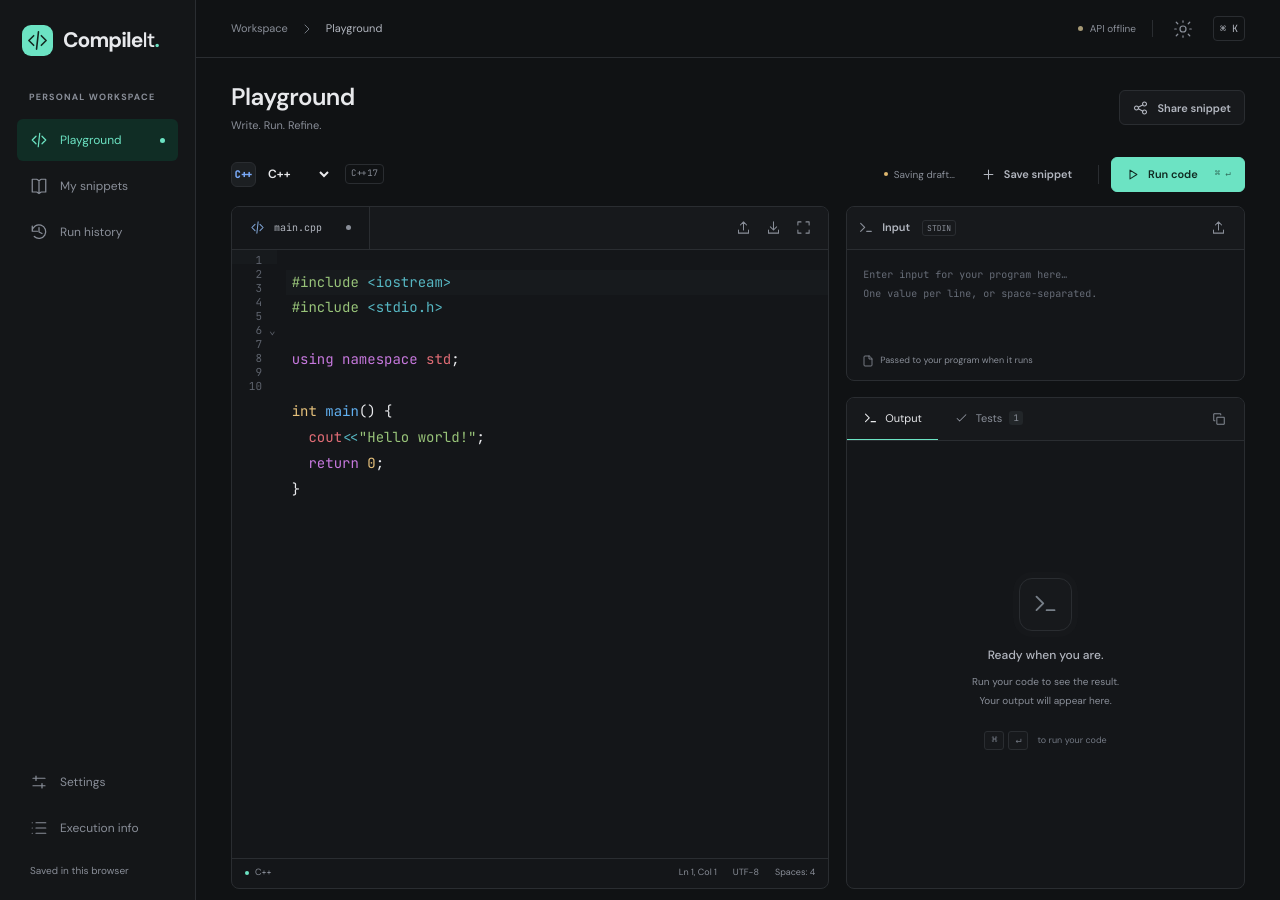
a lost submission response is retried with the same idempotency key
Click the button "Run code ⌘ ↵" at [1178, 174], box [1111,156,1245,192]
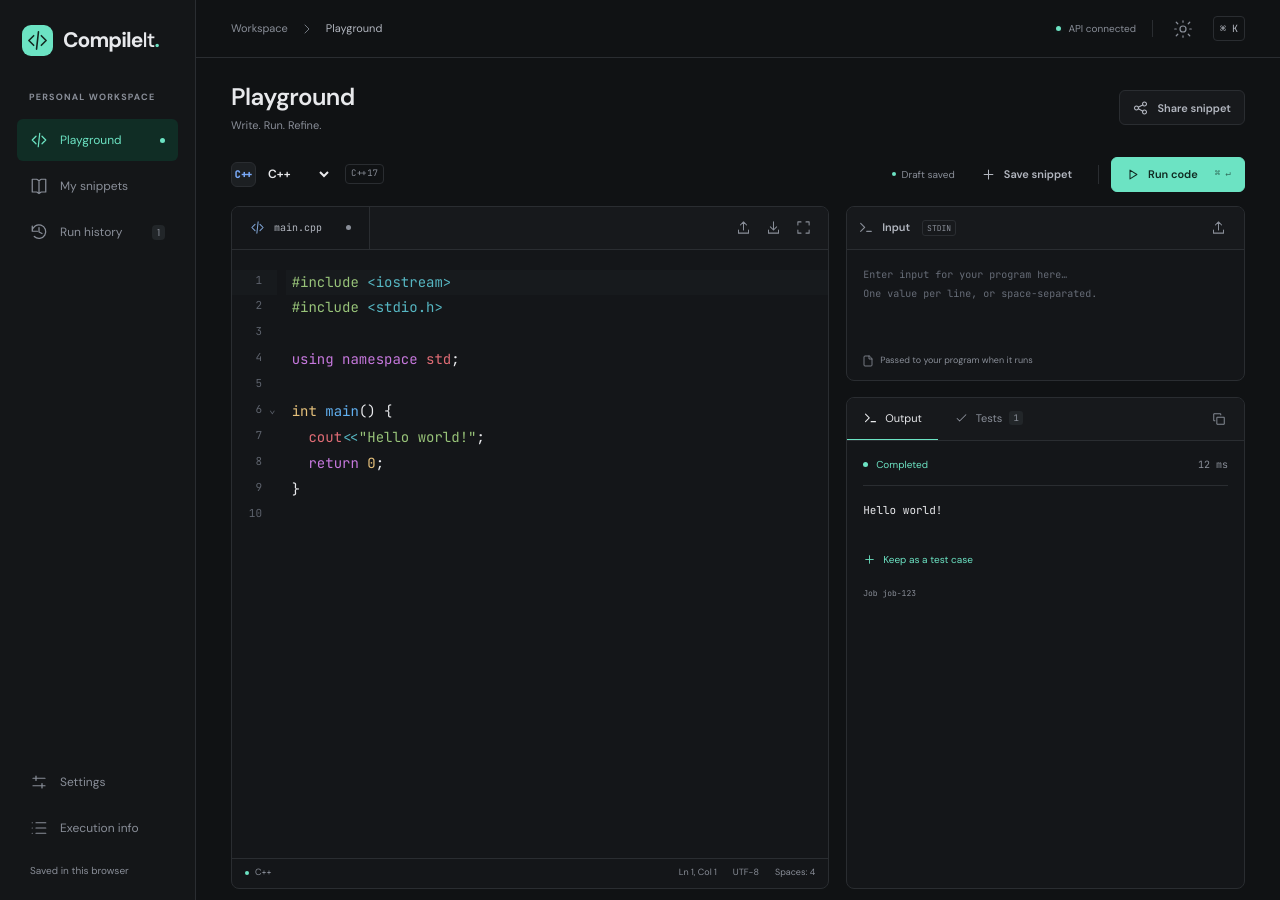
Now the text "Completed" is shown, box [876,458,928,470]
